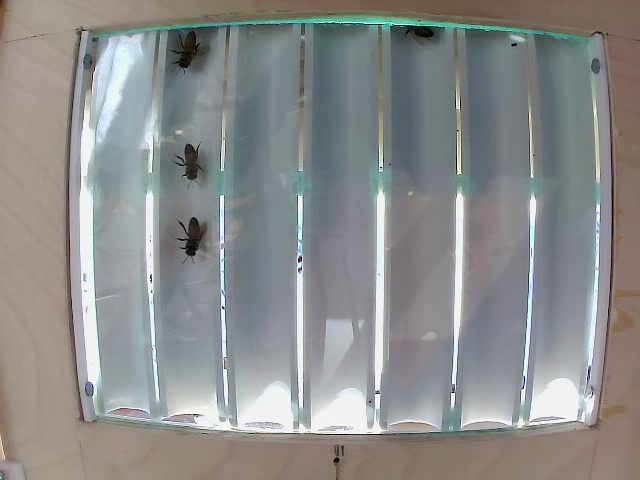bee: (174, 208, 211, 258), (178, 138, 203, 184), (168, 36, 195, 73)
